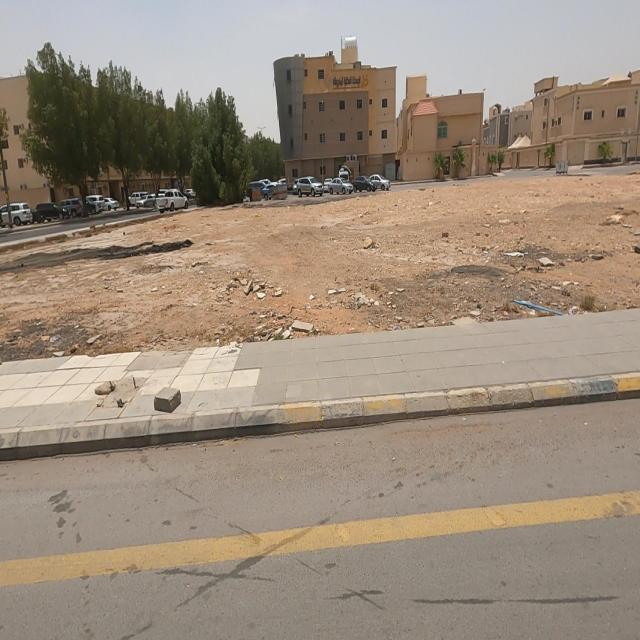debris: (472, 269, 598, 346)
